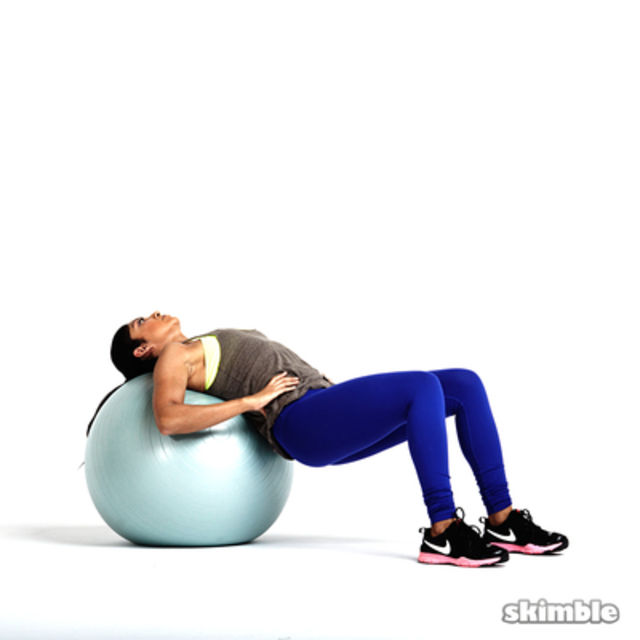yogaball: (82, 373, 298, 555)
